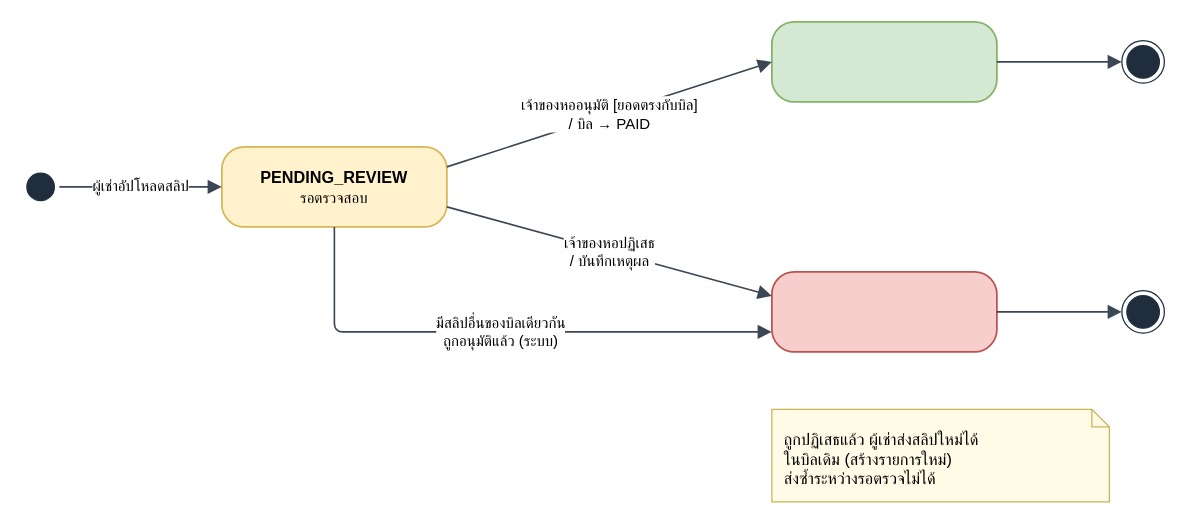
This 1186x525 diagram has some shape labels left out. The shapes that lost their labels are listed below. From the top down, each one's centre as x and y in pixels, then its label:
At (x=883, y=61): "APPROVED อนุมัติแล้ว".
At (x=883, y=311): "REJECTED ถูกปฏิเสธ".
